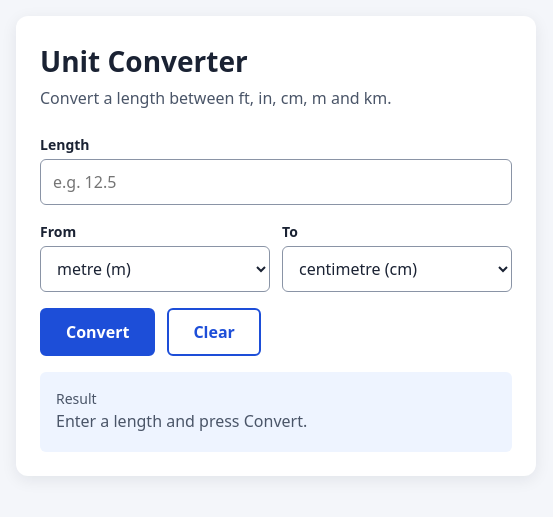
Test: S3: neat result formatting › S3: input 1, in to m shows 0.0254 m
The image size is (553, 517).
Type "1" into the field labelled "Length" at (276, 182), box [40,159,512,205]
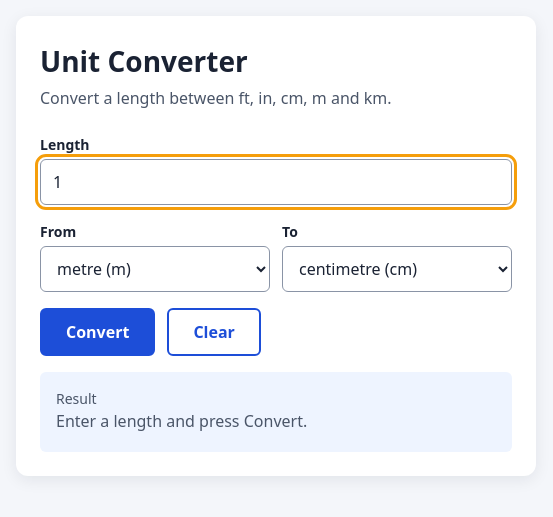
Select "inch (in)" in the dropdown labelled "From" at (155, 269), box [40,246,270,292]
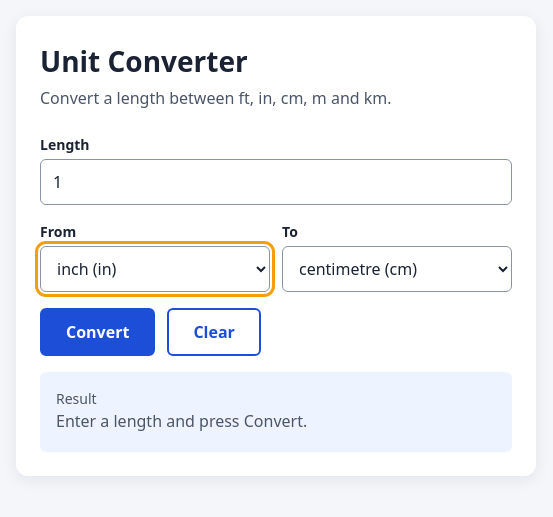
Select "metre (m)" in the dropdown labelled "To" at (397, 269), box [282,246,512,292]
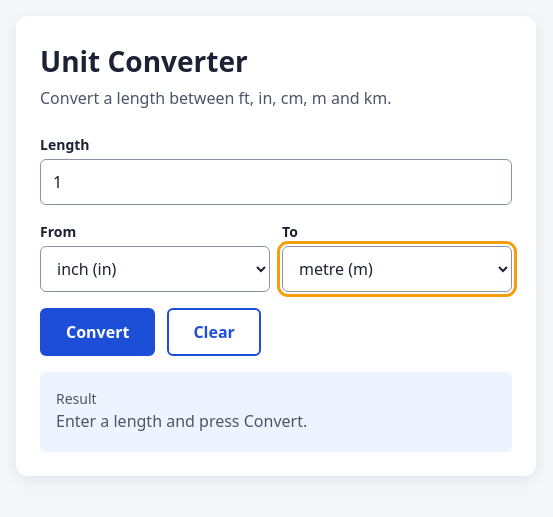
Click the button "Convert" at (98, 332), box [40,308,155,356]
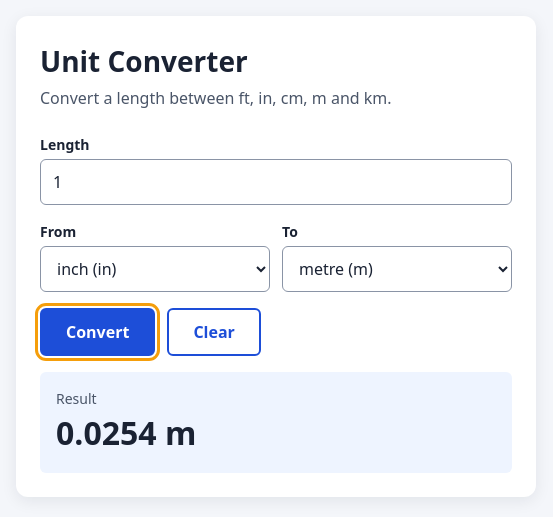
Check: the element with test id "result-value" does not show "e"
Check: the text with test id "result-value" reads "0.0254 m", box [56,411,196,454]
